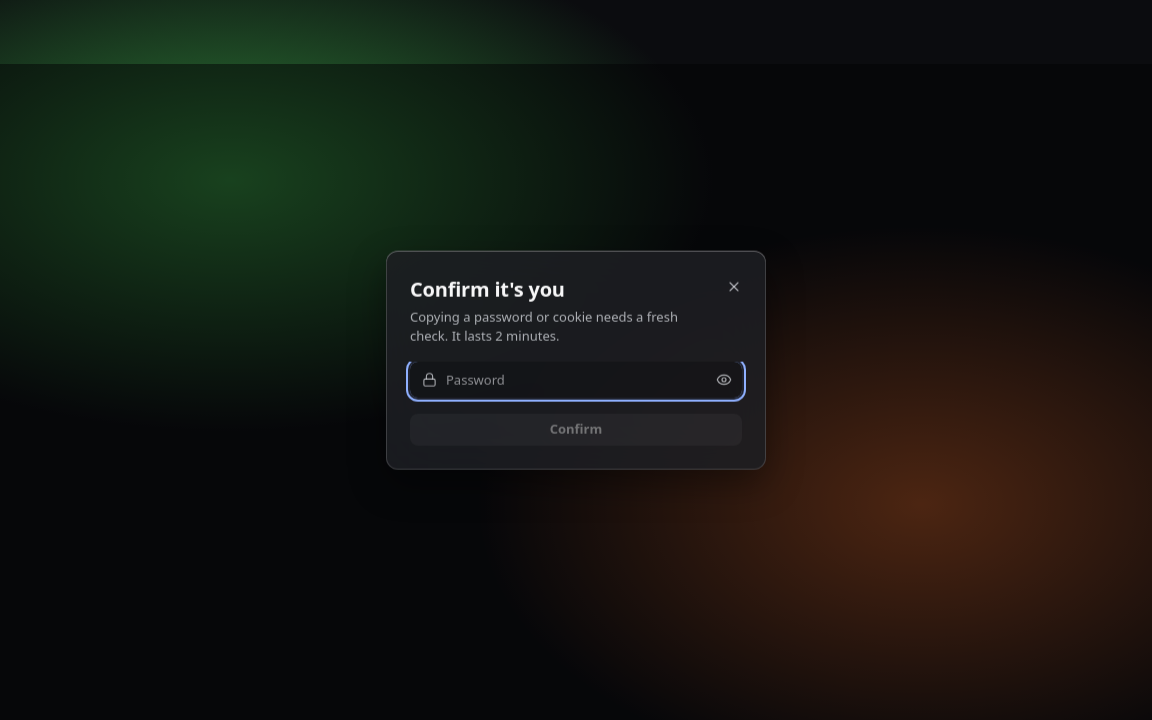
Test: a wrong password keeps the sheet open; success settles every shared request true
Type "nope" into the password field labelled "Password" at {"x": 576, "y": 379}, box [410,361,742,397]
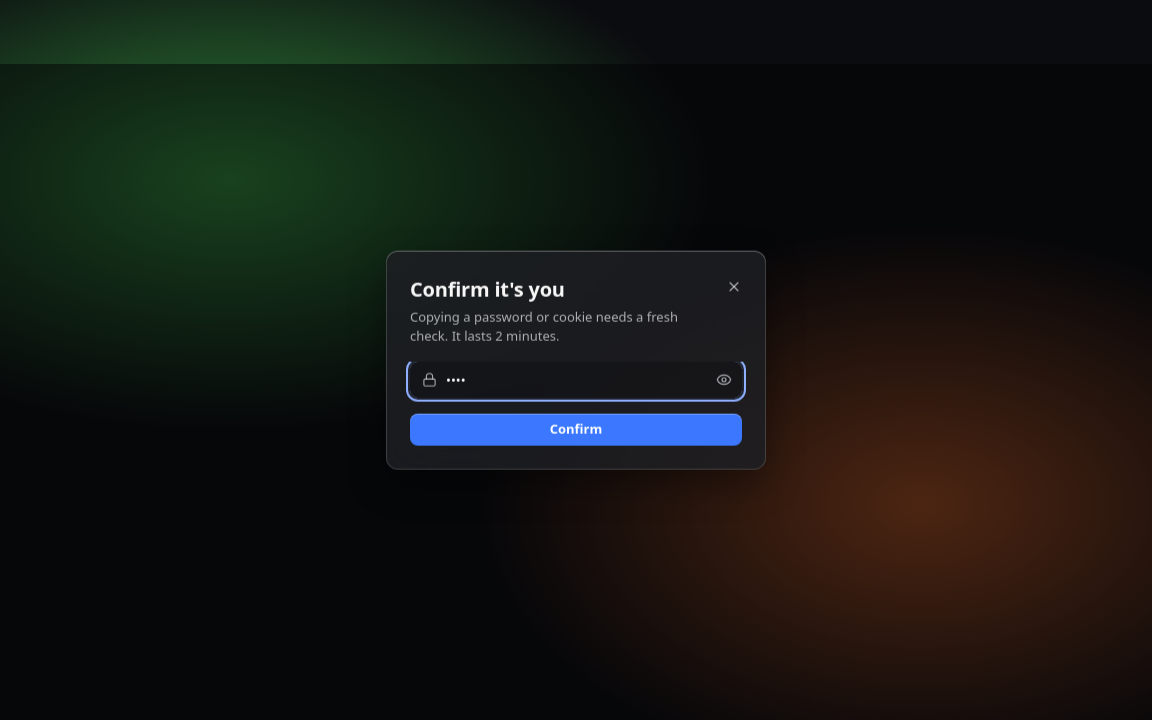
Click the button "Confirm" at {"x": 576, "y": 429}, box [410,413,742,445]
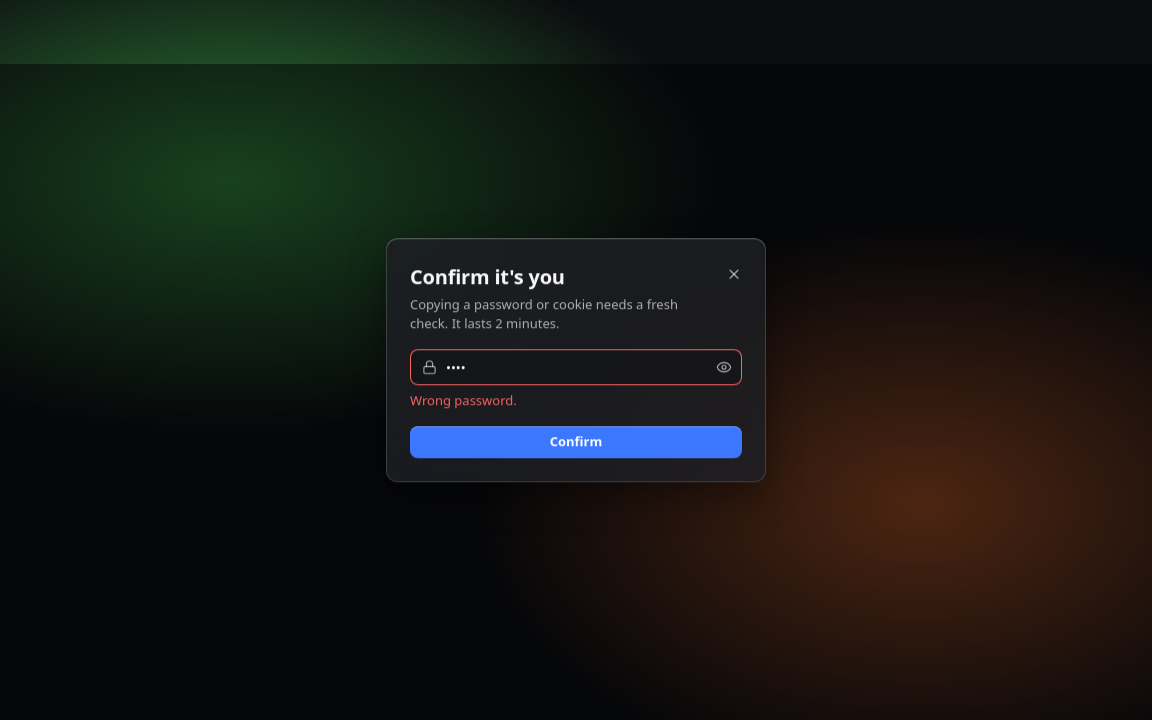
Expected: the text "Wrong password." is shown, [410,391,517,409]
Type "right" into the password field named "Password" at {"x": 576, "y": 367}, box [410,349,742,385]
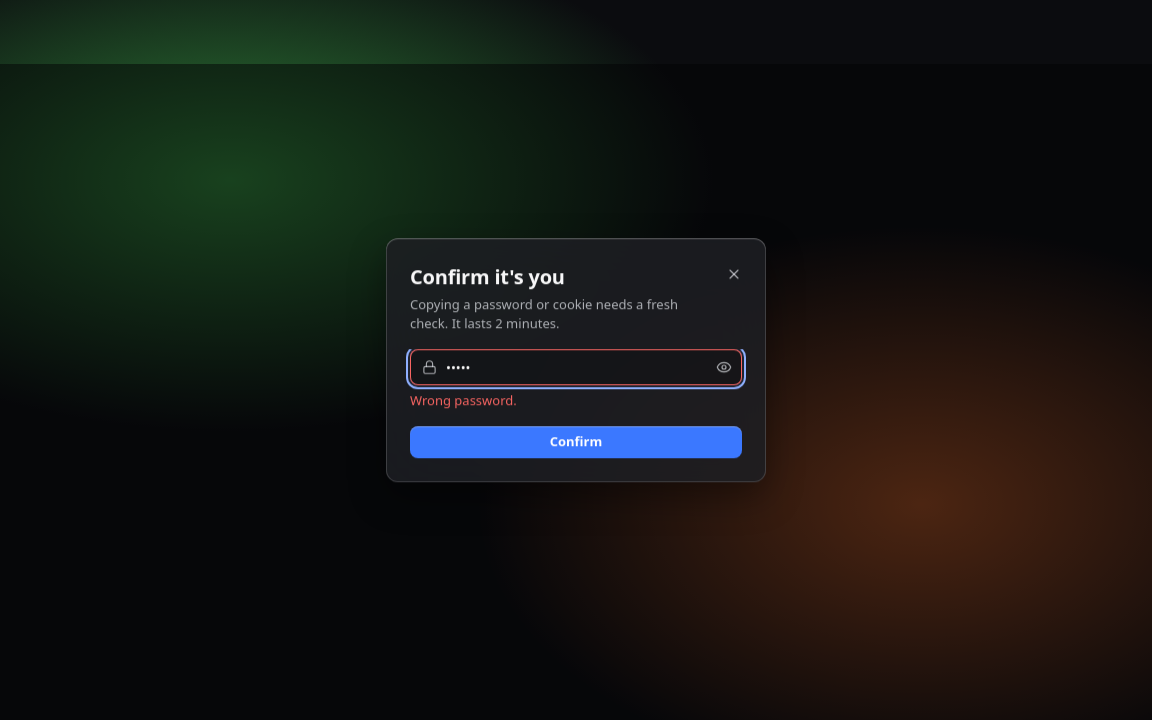
Click the button "Confirm" at {"x": 576, "y": 442}, box [410,426,742,458]
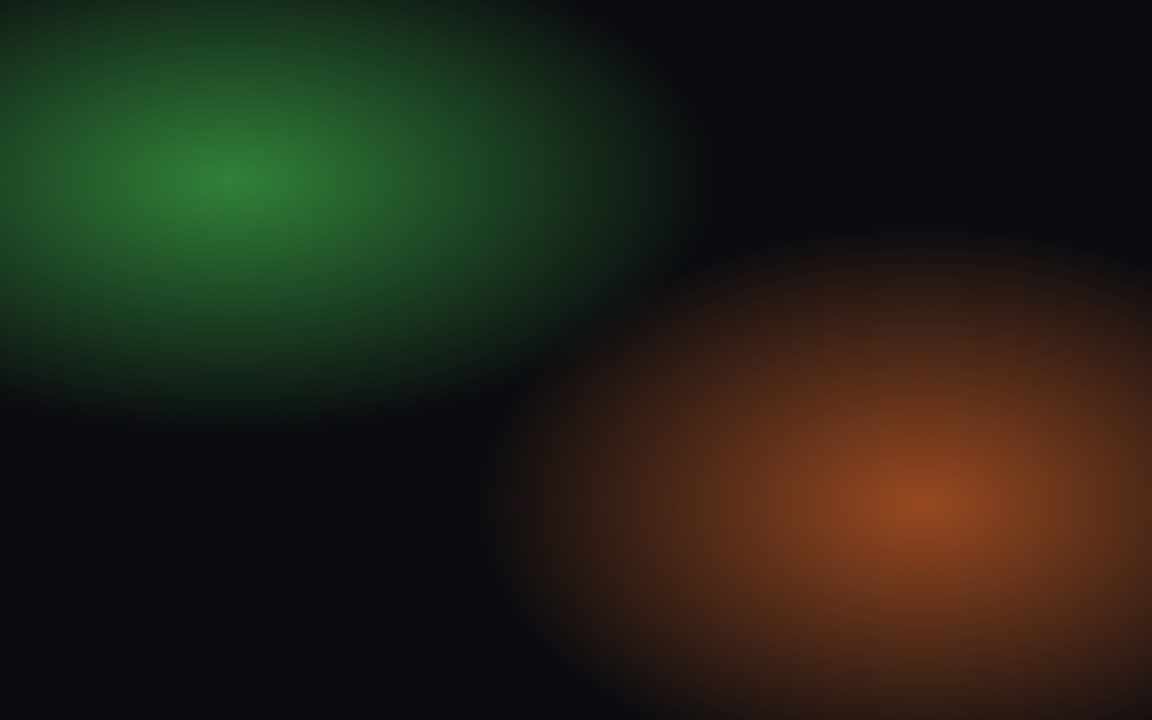
Expected: the dialog is gone
